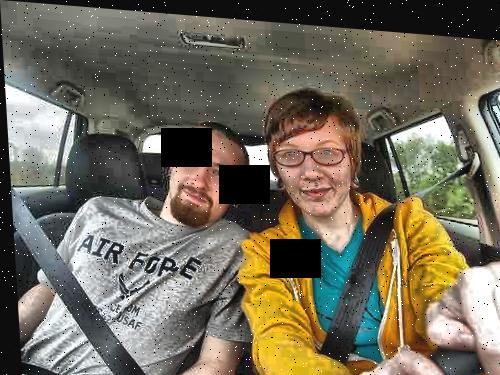seatbelt: (279, 132, 495, 375), (12, 188, 144, 375)
